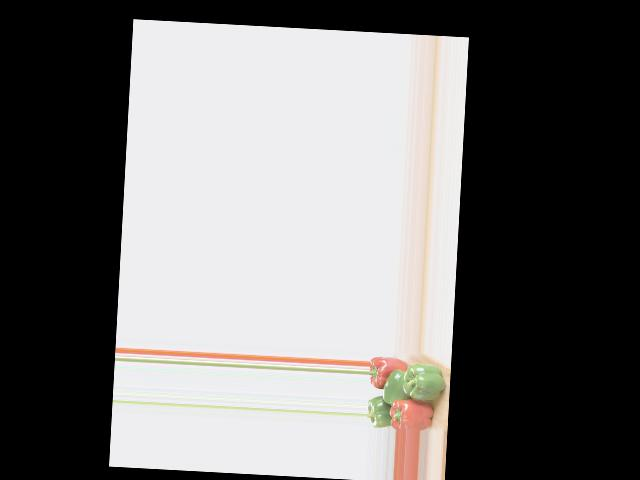bell_pepper: (390, 397, 438, 431)
